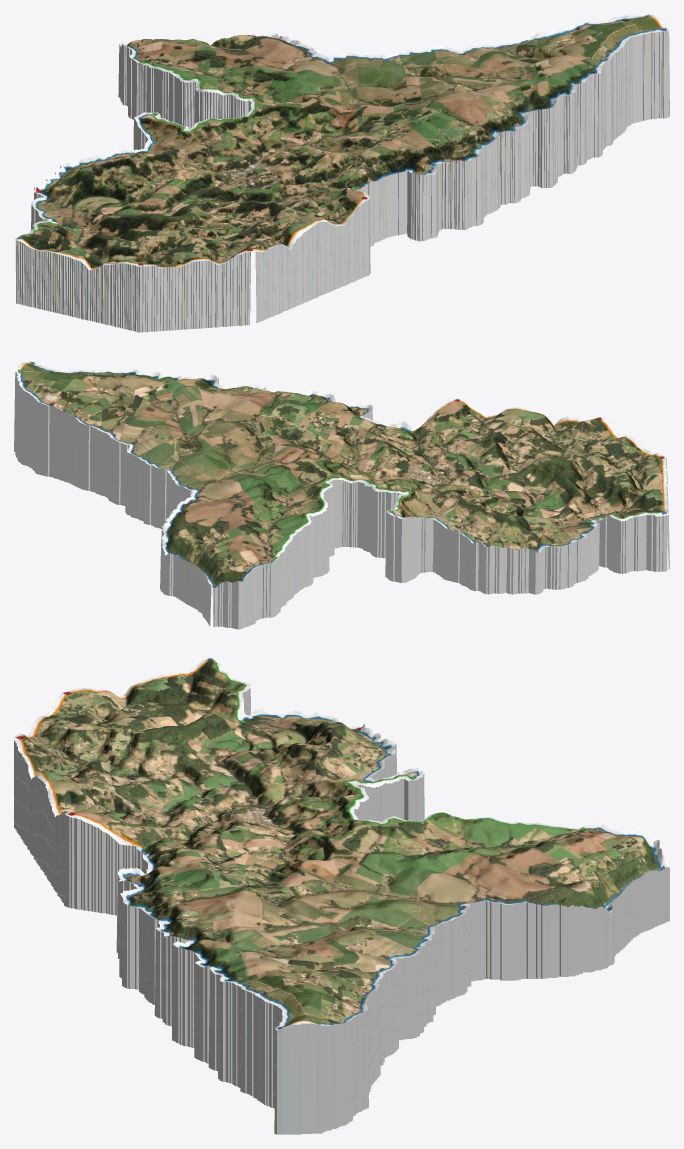
The picture shows the model from 3 angles, top to bottom: view 1: azimuth 30°, elevation 25°; view 2: azimuth 150°, elevation 25°; view 3: azimuth 270°, elevation 25°; orthographic projection. The views are drawn at different scales.
Size of the model in its own units: 1 by 0.1283 by 0.691.
Materials: 1 (1 with a texture image).
